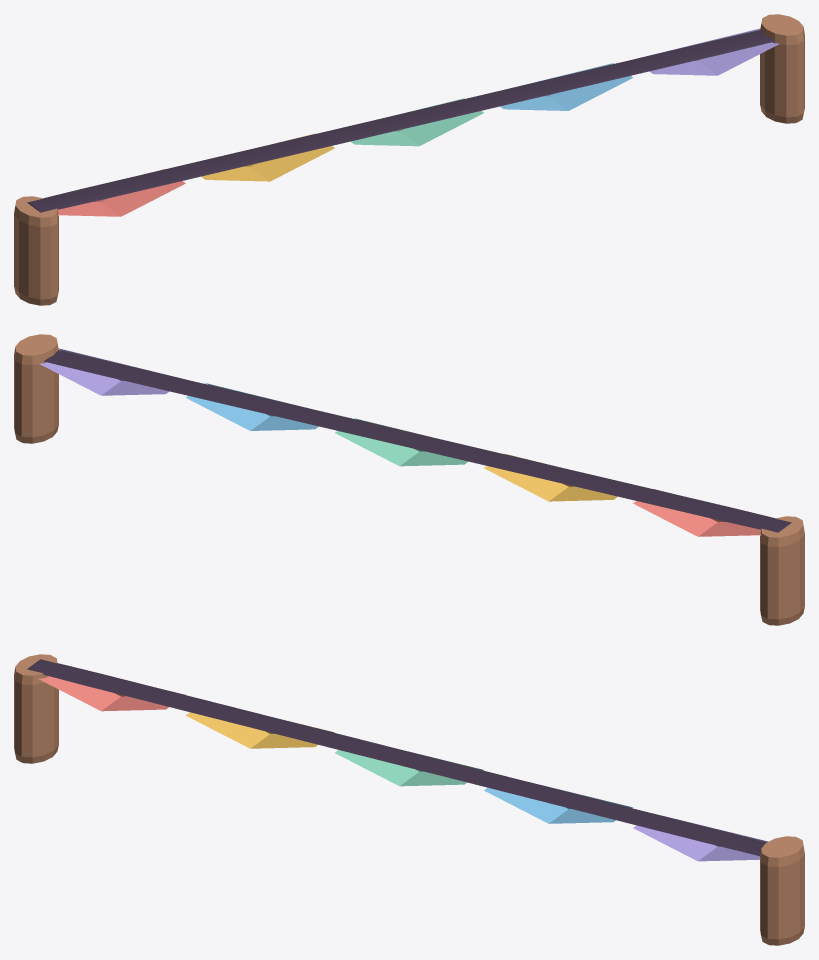
File: party_bunting.glb
The picture shows the model from 3 angles, top to bottom: view 1: azimuth 30°, elevation 25°; view 2: azimuth 150°, elevation 25°; view 3: azimuth 330°, elevation 25°; orthographic projection.
Visible parts, largest first — view 1: model; view 2: model; view 3: model.
Boxes of the visible parts, bbox=[...] form: model: bbox=[14, 14, 804, 305]; model: bbox=[14, 334, 804, 625]; model: bbox=[14, 654, 804, 945].
Size of the model in its own units: 2.3 by 0.25 by 0.15.
